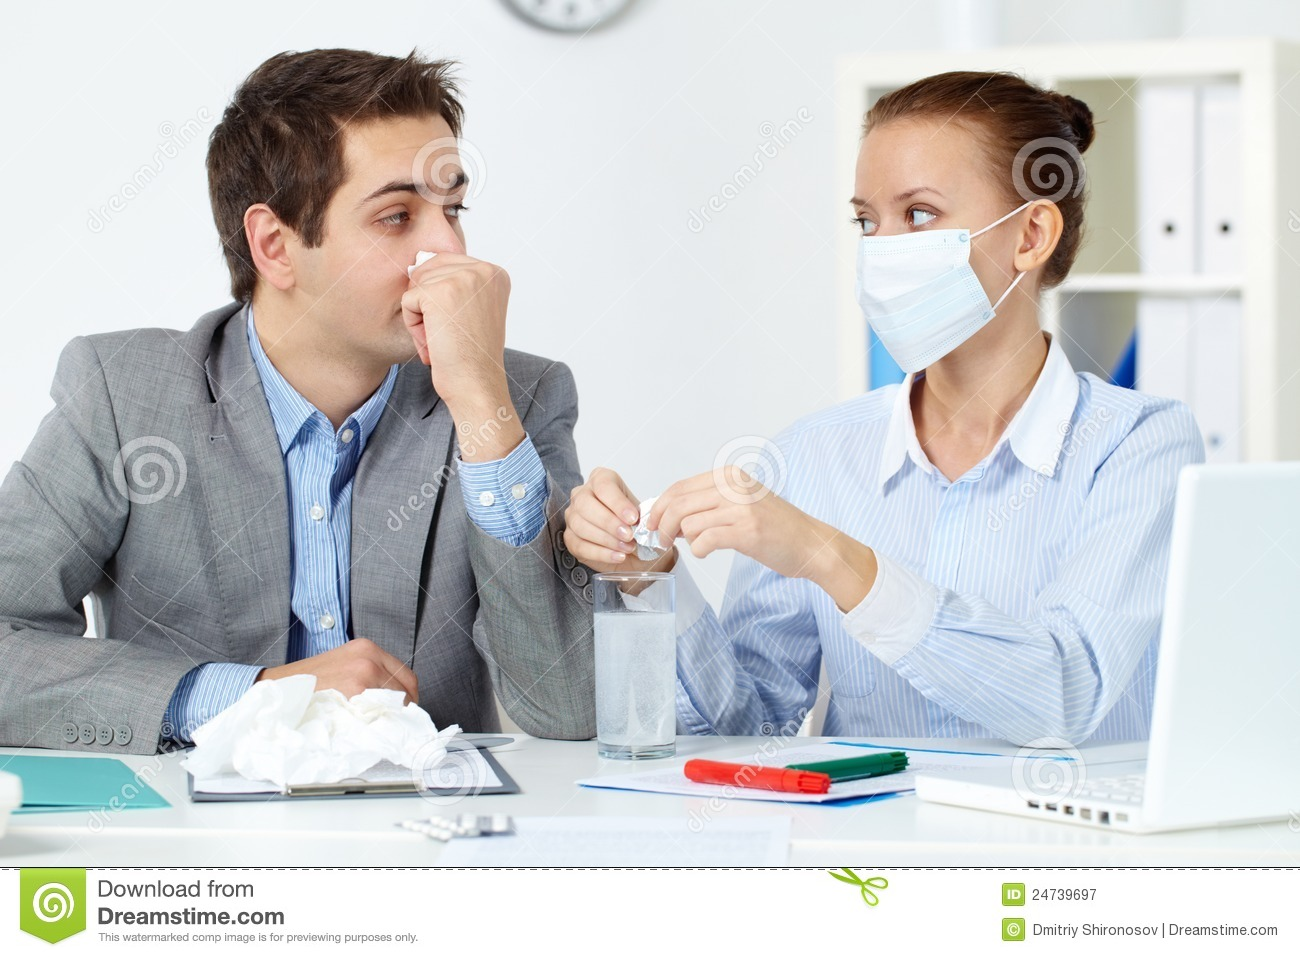mask: (855, 233, 1001, 382)
